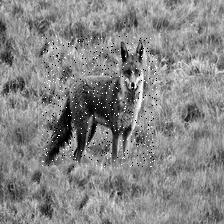fox: (42, 36, 157, 167)
